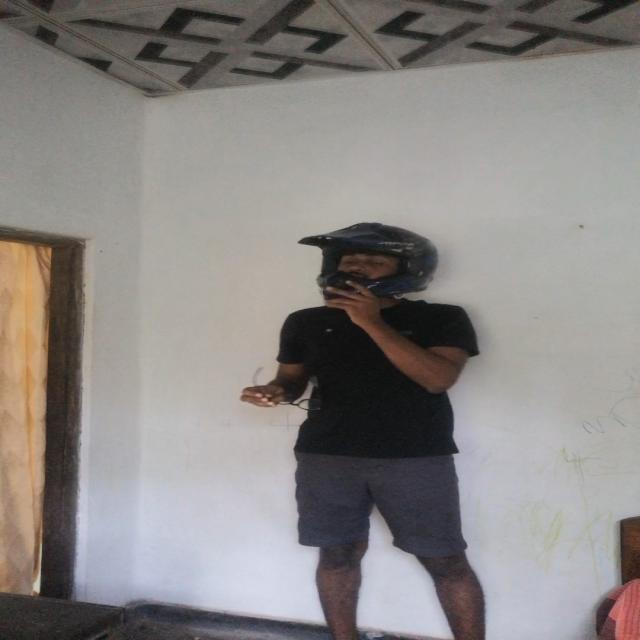Helmet_Wearer: (293, 218, 457, 322)
Person: (255, 229, 521, 640)
